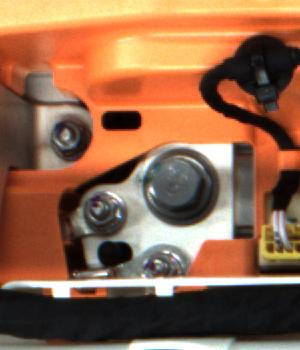nut_b: (134, 142, 221, 225)
screw_s: (80, 189, 128, 235), (47, 114, 90, 156), (138, 244, 185, 278)
